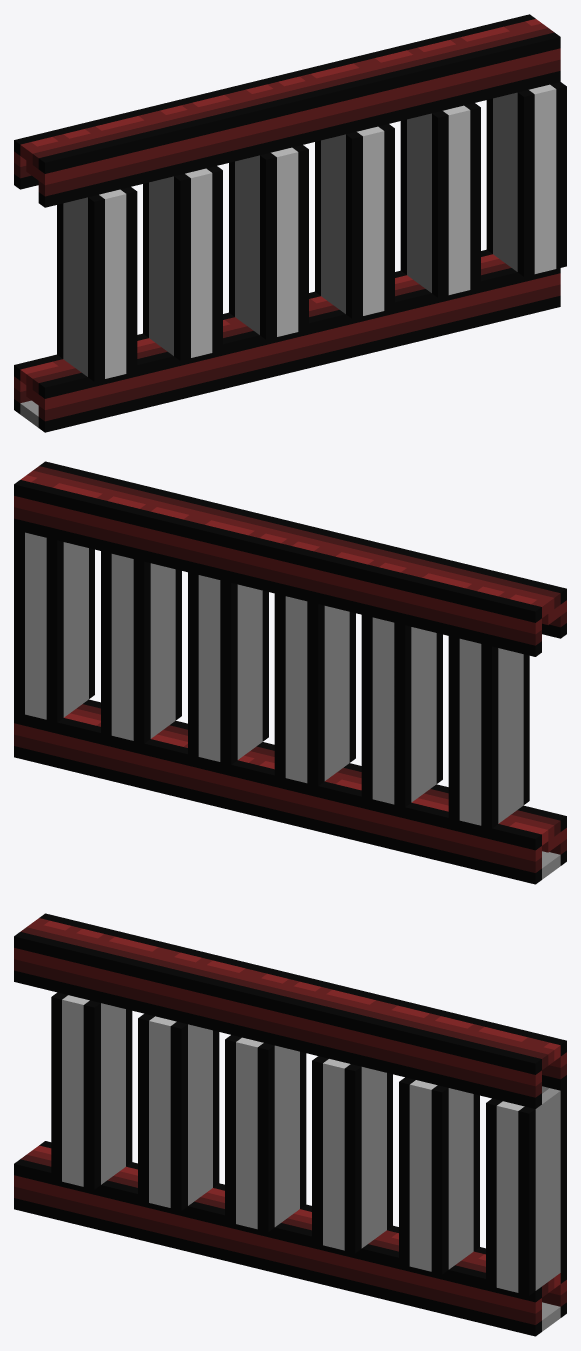
File: PlayerStairsP2.obj
3 views of the same model, one above another, from view 1: azimuth 30°, elevation 25°; view 2: azimuth 150°, elevation 25°; view 3: azimuth 330°, elevation 25° (orthographic).
Parts seen in each view (by area): view 1: PlayerStairsP2; view 2: PlayerStairsP2; view 3: PlayerStairsP2.
Boxes of the visible parts, <box> form: PlayerStairsP2: <box>14,14,566,432</box>; PlayerStairsP2: <box>14,461,566,884</box>; PlayerStairsP2: <box>14,913,566,1336</box>.
Bounding box in the file's own units: 4.8 × 2.4 × 0.6.
Materials: 1 (1 with a texture image).
